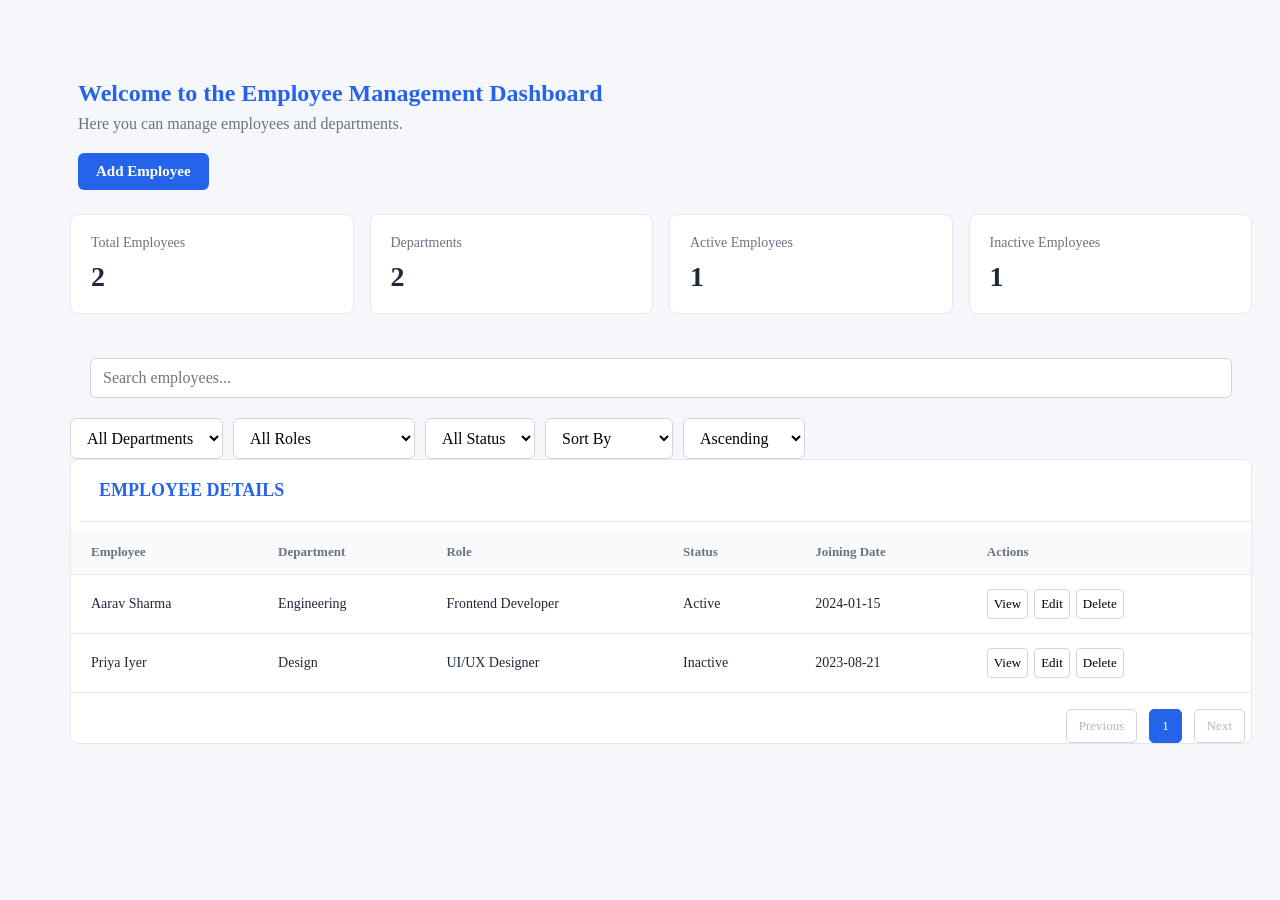
Test: Filter › should filter employees by status
Select "Active" in the 3rd dropdown showing "All Status": [480, 438] box 425,418 -> 535,459
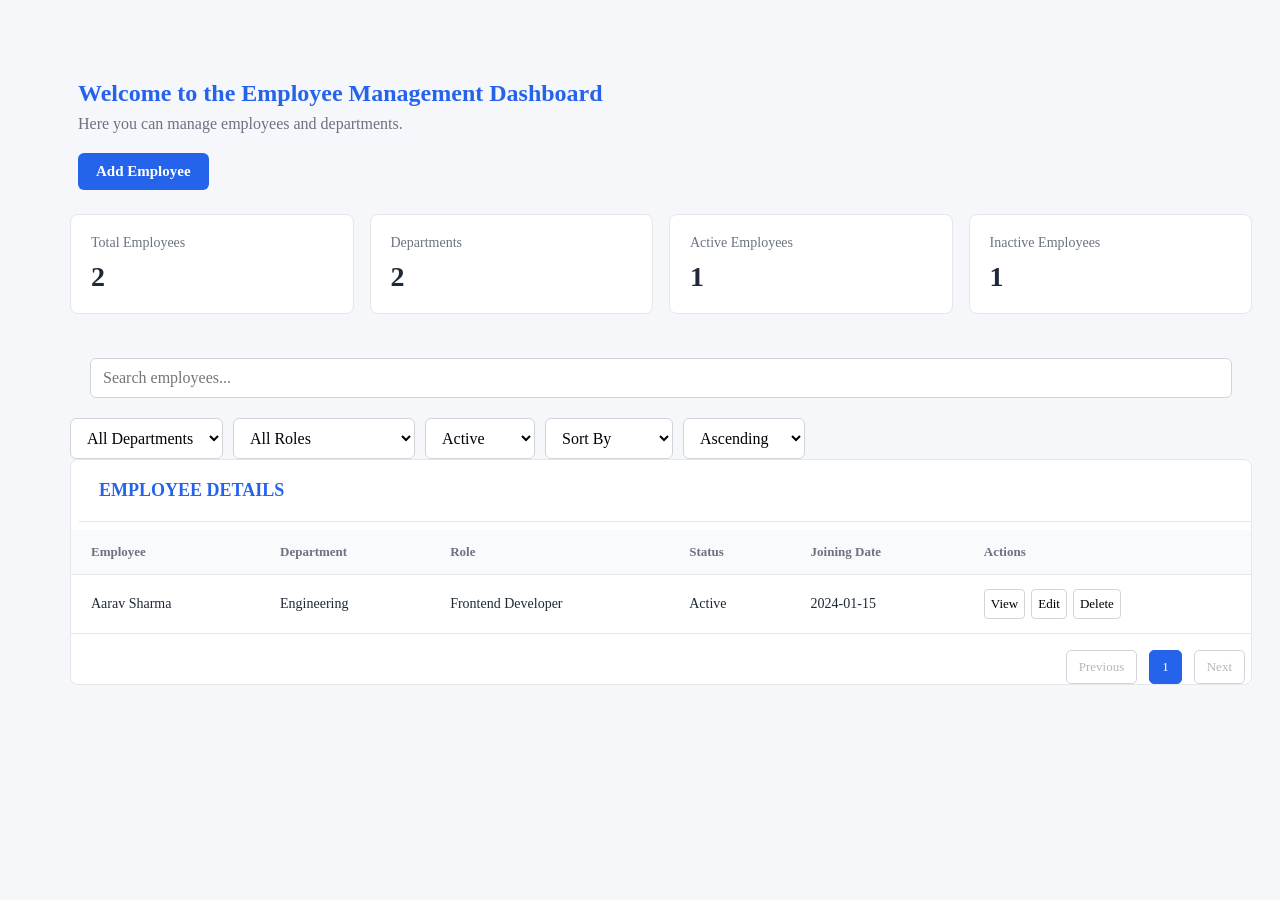
Expected: the text "Aarav Sharma" is shown, 71,574 -> 260,634
Result: the text "Priya Iyer" is gone
